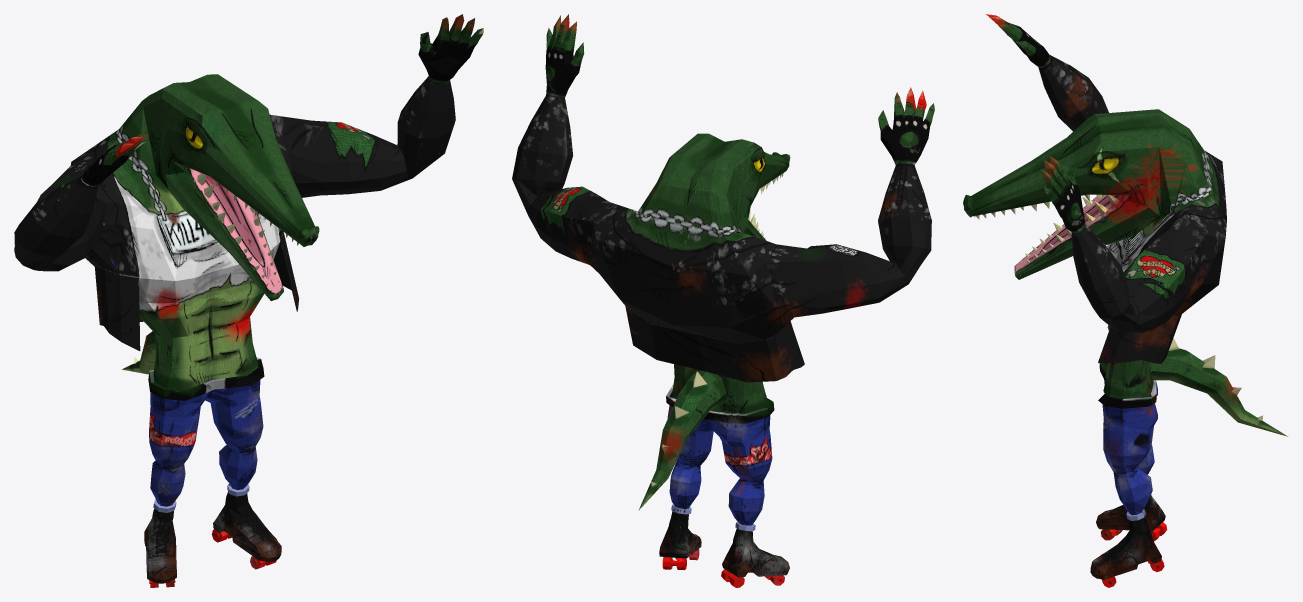
Rendered from cocodrilaBonesSelect_000079.obj.
The picture shows the model from 3 angles, left to right: view 1: azimuth 30°, elevation 25°; view 2: azimuth 150°, elevation 25°; view 3: azimuth 270°, elevation 25°; orthographic projection. The views are drawn at different scales.
Parts seen in each view (by area): view 1: Crocodile.002_Cylinder.002; view 2: Crocodile.002_Cylinder.002; view 3: Crocodile.002_Cylinder.002.
Boxes of the visible parts, x1,y1,x2,y2 form: Crocodile.002_Cylinder.002: (14, 14, 483, 587); Crocodile.002_Cylinder.002: (512, 14, 934, 587); Crocodile.002_Cylinder.002: (963, 14, 1288, 587).
Size of the model in its own units: 6.53 by 7.54 by 4.46.
